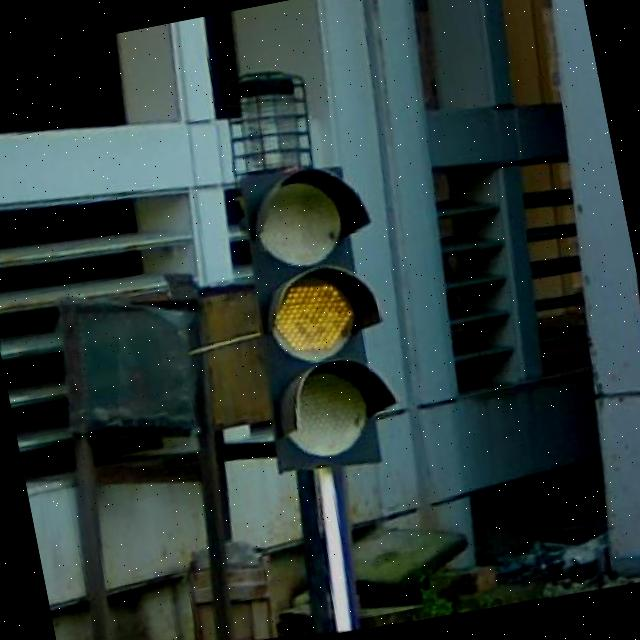yellow_light: (218, 150, 424, 488)
